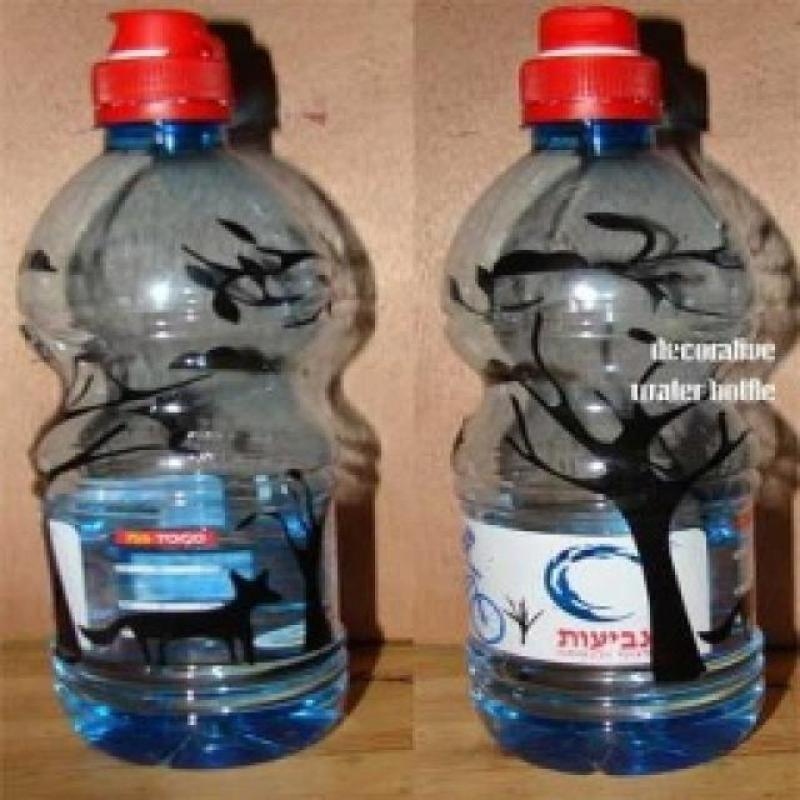botella: (14, 12, 368, 768), (442, 4, 773, 777)
